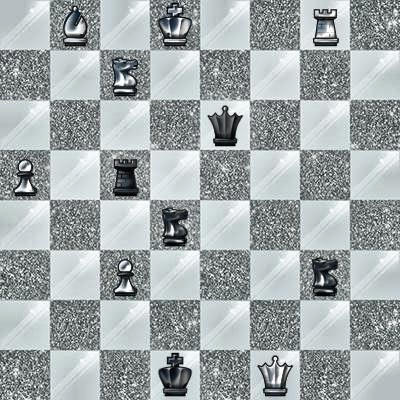black-king: (150, 350, 200, 400)
black-knight: (150, 200, 200, 250), (300, 250, 350, 300)
black-queen: (200, 100, 250, 150)
black-rook: (100, 150, 150, 200)
white-bishop: (50, 0, 100, 50)
white-king: (150, 0, 200, 50)
white-knight: (100, 50, 150, 100)
white-pawn: (0, 150, 50, 200), (100, 250, 150, 300)
white-queen: (250, 350, 300, 400)
white-rook: (300, 0, 350, 50)
